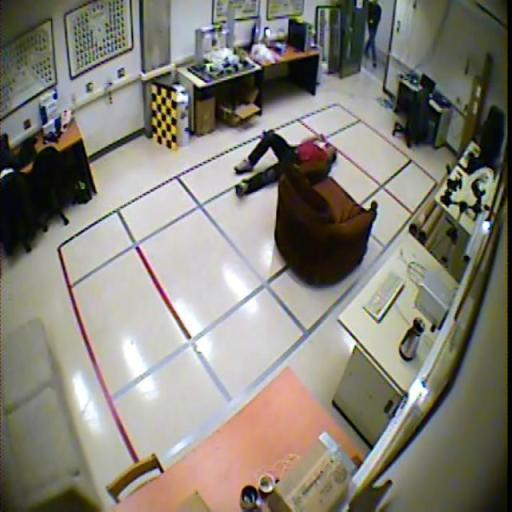Fall: (234, 130, 338, 197)
